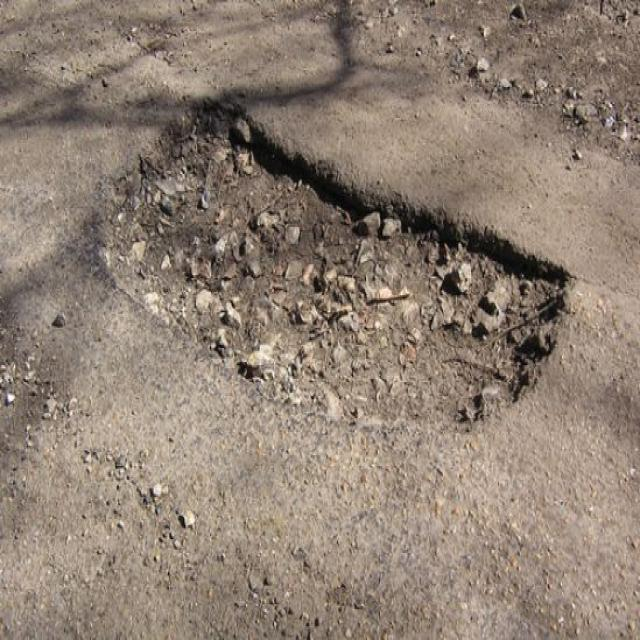pothole: (82, 101, 574, 435)
